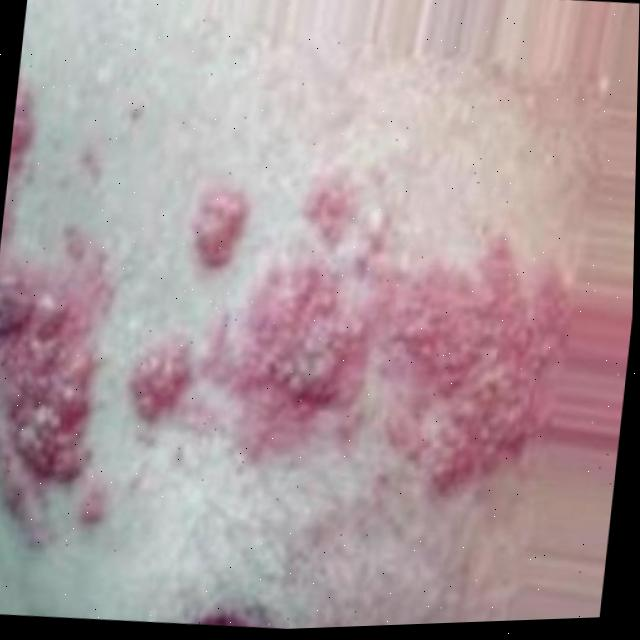Shingles: (0, 165, 582, 527), (11, 77, 34, 152)
